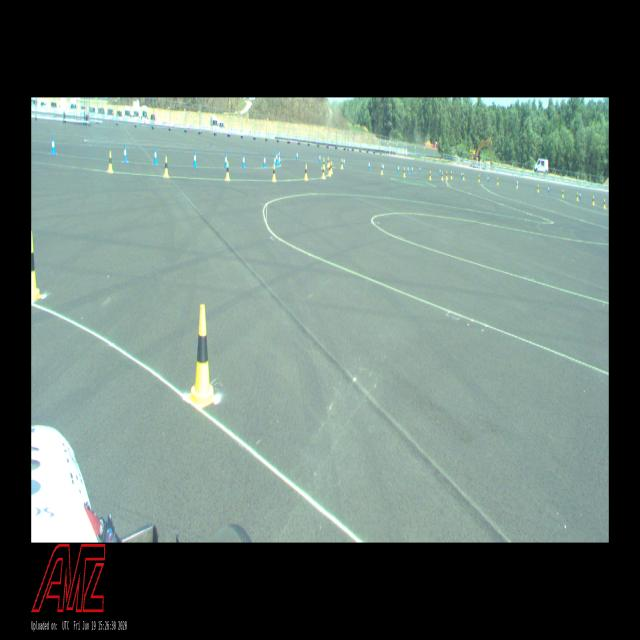blue_cone: (50, 136, 56, 155), (153, 148, 158, 164), (123, 144, 127, 162), (193, 150, 197, 167), (242, 154, 246, 168), (224, 152, 227, 168), (263, 154, 266, 168), (278, 154, 281, 166), (274, 154, 276, 168), (547, 185, 550, 193), (419, 165, 422, 173), (407, 164, 409, 175), (398, 163, 400, 174), (296, 150, 298, 161), (368, 160, 370, 170), (382, 162, 384, 172), (343, 157, 345, 167), (319, 153, 321, 163), (276, 152, 278, 162), (411, 165, 413, 174), (579, 191, 581, 199), (439, 168, 441, 176), (460, 171, 462, 178), (487, 175, 489, 182)
yellow_cone: (188, 305, 215, 408), (31, 230, 40, 303), (108, 151, 114, 173), (164, 156, 169, 178), (225, 161, 230, 181), (303, 164, 308, 180), (272, 164, 276, 182), (322, 164, 326, 179), (327, 162, 331, 176), (322, 157, 325, 171), (428, 170, 432, 180), (330, 161, 333, 174), (603, 198, 606, 210), (592, 195, 595, 206), (445, 170, 448, 180), (450, 170, 453, 180), (576, 192, 579, 201), (381, 163, 383, 176), (404, 166, 406, 178), (327, 156, 329, 168), (341, 158, 343, 169), (562, 188, 564, 198), (441, 171, 443, 181), (537, 184, 539, 193), (462, 172, 464, 181), (496, 177, 498, 185), (478, 175, 480, 182), (516, 181, 518, 188)
